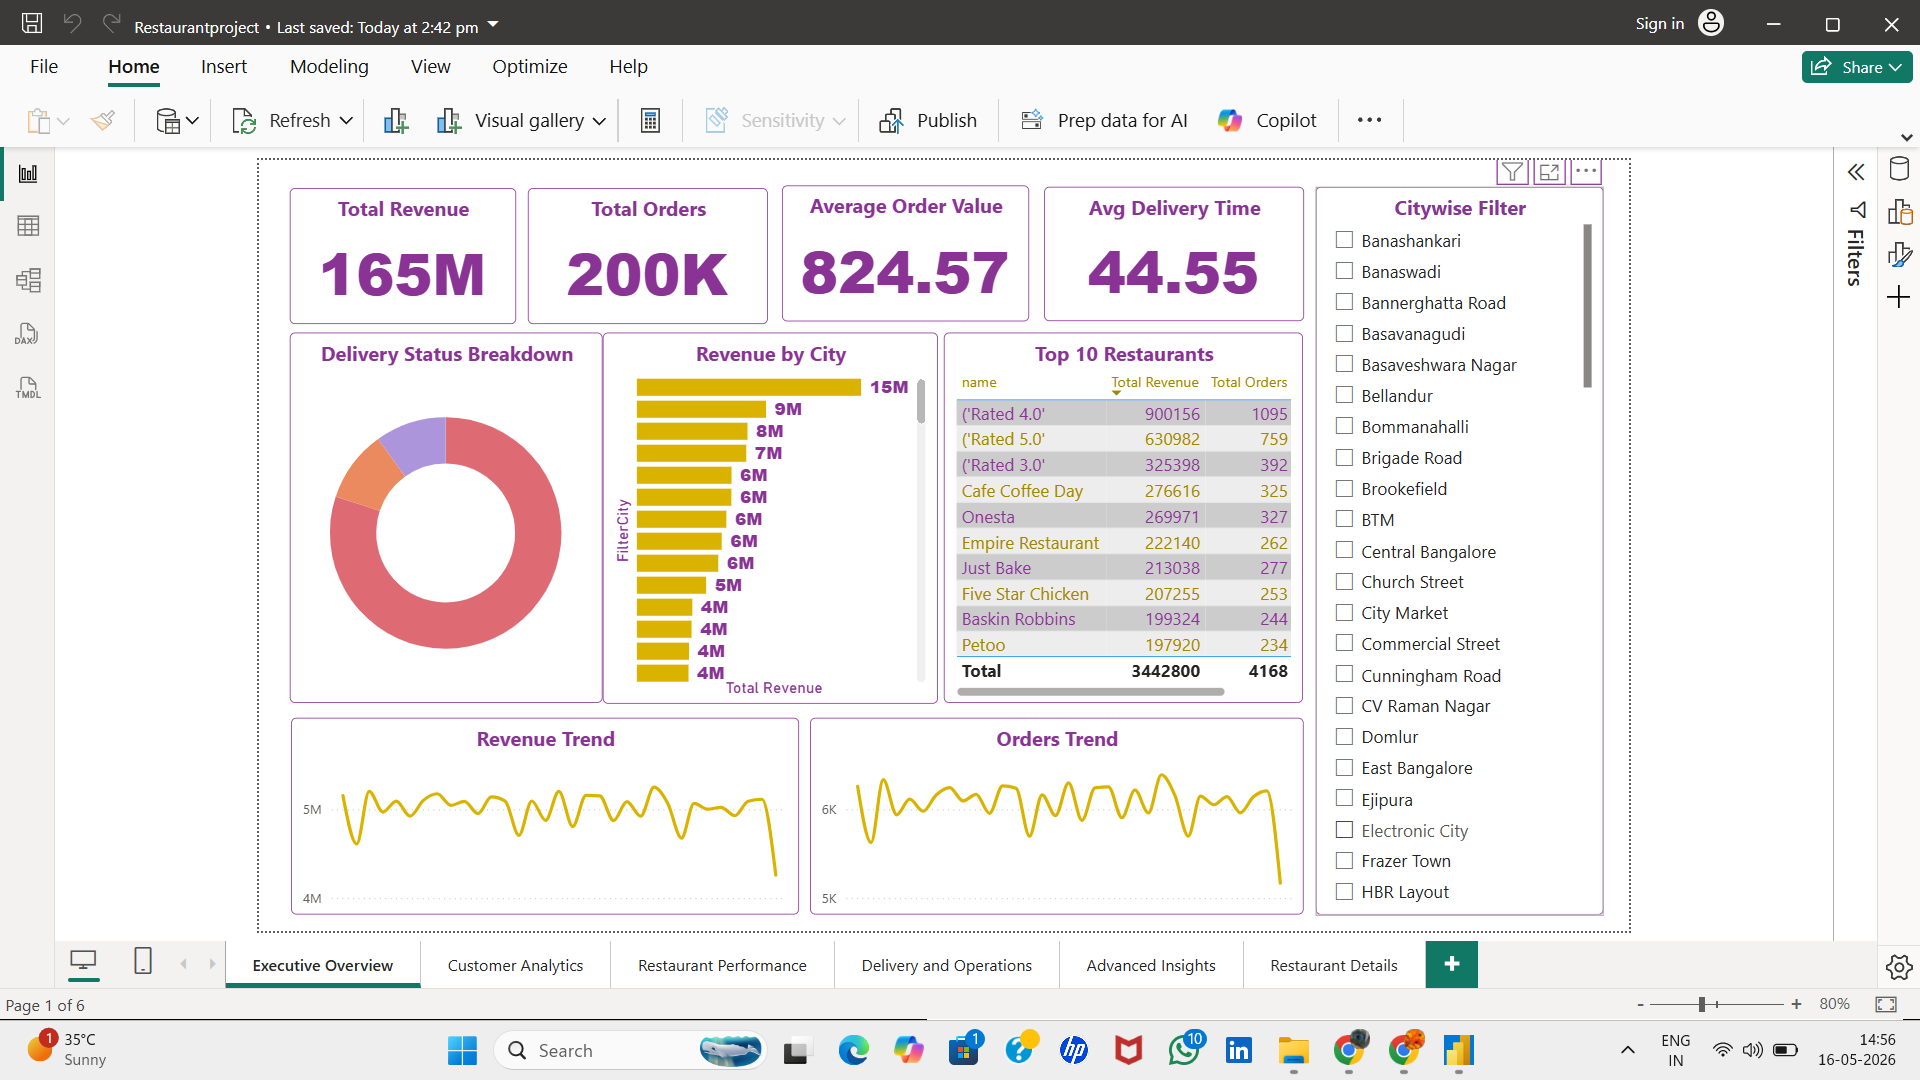

The dashboard page shown, as its layout file describes it:
{"tool":"powerbi","page":{"name":"Executive Overview","canvas":[1280,720],"ordinal":0},"visuals":[{"type":"card","title":"Total Revenue","fields":{"Values":["Orders.Total Revenue"]},"box":[29.2,26,211.2,126.7],"z":0},{"type":"card","title":"Avg Delivery Time","fields":{"Values":["Orders.Avg Delivery Time"]},"box":[733.5,25.6,242.7,125.4],"z":1000},{"type":"card","title":"Total Orders","fields":{"Values":["Orders.Total Orders"]},"box":[251.9,26,224.2,126.7],"z":2000},{"type":"card","title":"Average Order Value","fields":{"Values":["Orders.Avg Order Value"]},"box":[489.1,24.4,230.7,126.7],"z":3000},{"type":"lineChart","title":"Revenue Trend","fields":{"Y":["Orders.Total Revenue"],"Category":["DateTable.Date.Variation.Date Hierarchy.Year","DateTable.Date.Variation.Date Hierarchy.Month"]},"box":[29.6,521.5,474.5,184.2],"z":4000},{"type":"lineChart","title":"Orders Trend","fields":{"Y":["Orders.Total Orders"],"Category":["DateTable.Date.Variation.Date Hierarchy.Year","DateTable.Date.Variation.Date Hierarchy.Month"]},"box":[514.8,521.5,461.1,184.2],"z":5000},{"type":"barChart","title":"Revenue by City","fields":{"Category":["Customers.FilterCity"],"Y":["Orders.Total Revenue"]},"box":[321.3,161.3,313.2,346.8],"z":6000},{"type":"slicer","title":"Citywise Filter","fields":{"Values":["Customers.FilterCity"]},"box":[988,25.5,268.8,680.2],"z":7000},{"type":"tableEx","title":"Top 10 Restaurants","fields":{"Values":["Restaurants.name","Orders.Total Revenue","Orders.Total Orders","Orders.Avg Rating"]},"box":[640.5,161.8,335.8,346.5],"z":8000},{"type":"donutChart","title":"Delivery Status Breakdown","fields":{"Y":["Orders.Total Orders"],"Category":["Orders.OrderStatus"]},"box":[29.2,160.9,292.5,346.1],"z":9000}]}

Visuals, with their boxes on the page's 1280x720 design canvas (x1, y1, x2, y2). These are canvas units, not pixel positions in the 1920x1080 screenshot, which may show the page scaled, cropped or inside an application window:
"Total Revenue" card: detection(29, 26, 240, 153)
"Avg Delivery Time" card: detection(734, 26, 976, 151)
"Total Orders" card: detection(252, 26, 476, 153)
"Average Order Value" card: detection(489, 24, 720, 151)
"Revenue Trend" lineChart: detection(30, 522, 504, 706)
"Orders Trend" lineChart: detection(515, 522, 976, 706)
"Revenue by City" barChart: detection(321, 161, 634, 508)
"Citywise Filter" slicer: detection(988, 26, 1257, 706)
"Top 10 Restaurants" tableEx: detection(640, 162, 976, 508)
"Delivery Status Breakdown" donutChart: detection(29, 161, 322, 507)
